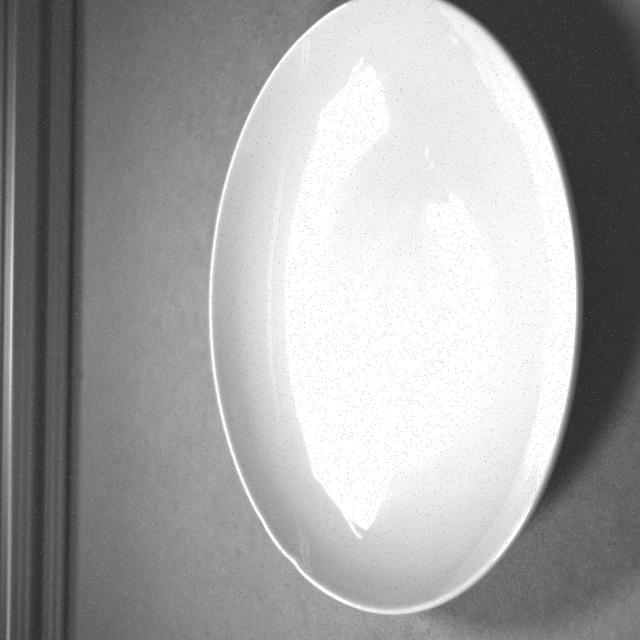plate: (183, 0, 597, 624)
